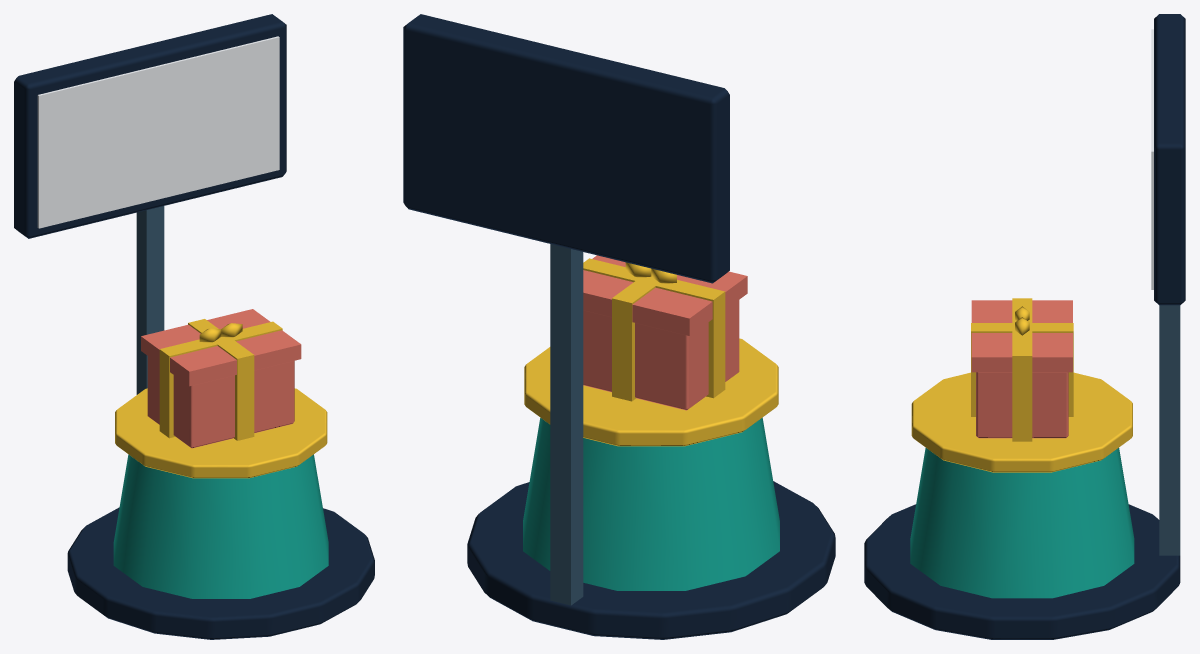
File: CM_Tycoon_DailyRewardStand.fbx
3 renders of one model, left to right at view 1: azimuth 30°, elevation 25°; view 2: azimuth 150°, elevation 25°; view 3: azimuth 270°, elevation 25°, orthographic. The views are drawn at different scales.
Visible parts, largest first — view 1: Body, Face; view 2: Body; view 3: Body, Face.
Part boxes in pixels (box(x1,y1,x2,y2)): Body: box(14, 14, 374, 639); Face: box(37, 36, 279, 228); Body: box(403, 14, 835, 639); Body: box(864, 14, 1185, 639); Face: box(1151, 29, 1153, 289).
Size of the model in its own units: 6 by 6.1 by 10.4.
1 material, 1 textured.
